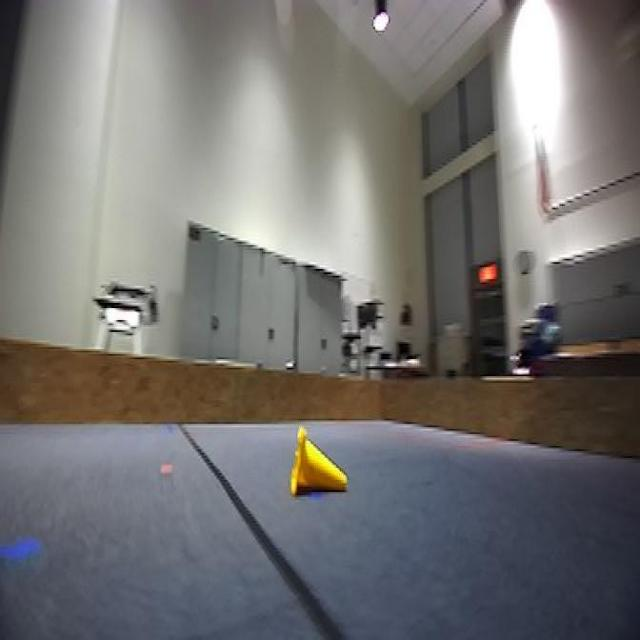frc_cone: (288, 429, 346, 509)
